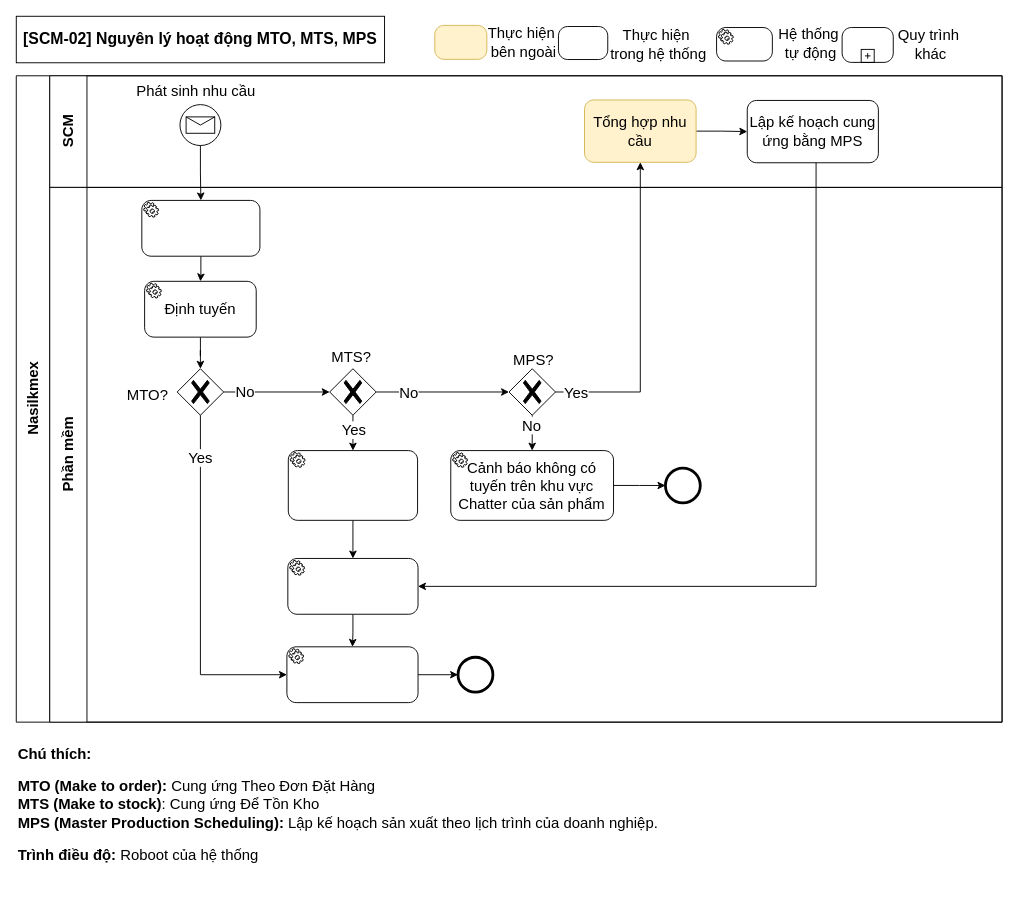
The diagram is 1020 pixels wide and 914 high, and some of its shapes have lost their labels. The shapes that lost their labels are listed below. From the top down, each one's centre as x and y in pixels, then its label:
the point at 200,227: Kích hoạt nhu cầu
the point at 352,485: Tính toán, tổng hợp tất cả nhu cầu
the point at 352,586: Chạy Trình điều độ
the point at 352,674: Sinh các hoạt động để đáp ứng nhu cầu
